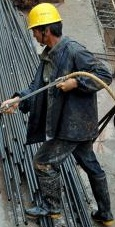boots: (25, 202, 61, 218), (91, 208, 115, 224)
hard-hat: (27, 1, 63, 29)
